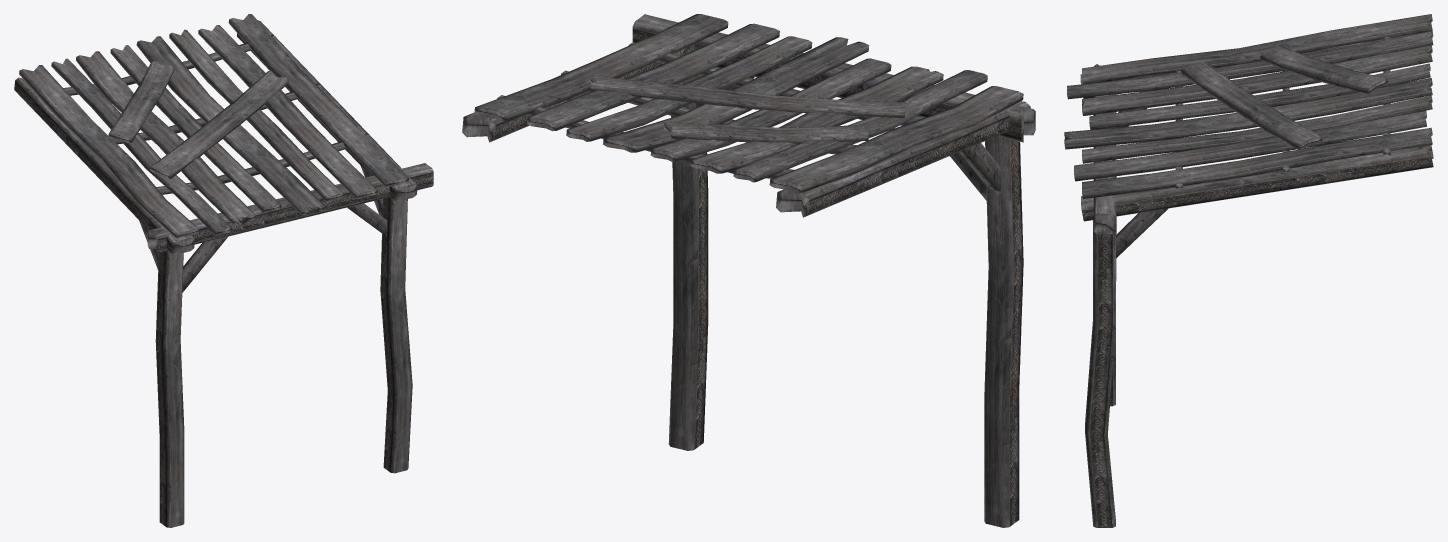
Rendered from tavern_smallRoof.fbx.
3 renders of one model, left to right at view 1: azimuth 30°, elevation 25°; view 2: azimuth 150°, elevation 25°; view 3: azimuth 270°, elevation 25°, orthographic. The views are drawn at different scales.
Parts seen in each view (by area): view 1: Default_Layer; view 2: Default_Layer; view 3: Default_Layer.
Boxes of the visible parts, x1,y1,x2,y2 form: Default_Layer: (14, 14, 433, 527); Default_Layer: (462, 14, 1035, 527); Default_Layer: (1064, 14, 1433, 527).
Bounding box in the file's own units: 629 × 755 × 655.
1 material, 1 textured.
